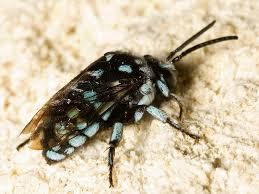Thyreus: (34, 23, 220, 185)
